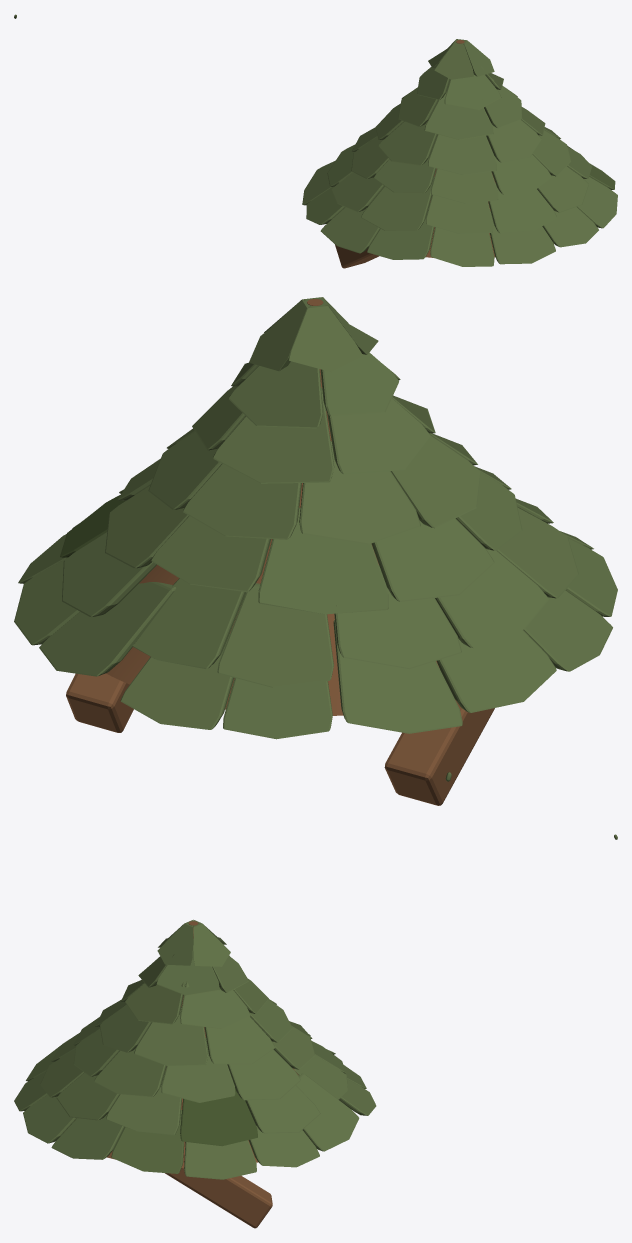
Rendered from small_roof.glb.
3 renders of one model, top to bottom at view 1: azimuth 30°, elevation 25°; view 2: azimuth 150°, elevation 25°; view 3: azimuth 270°, elevation 25°, orthographic. The views are drawn at different scales.
Visible parts, largest first — view 1: Tiles and Structure | Hand laid slate | 033, Tiles and Structure | Hand laid slate | 031, Tiles and Structure | Hand laid slate | 016, Tiles and Structure | Hand laid slate | 032, Tiles and Structure | Hand laid slate | 043, Tiles and Structure | Hand laid slate | 010, Tiles and Structure | Hand laid slate | 042, Tiles and Structure | Hand laid slate | 022, Tiles and Structure | Hand laid slate | 044, Tiles and Structure | Hand laid slate | 017, Tiles and Structure | Hand laid slate | 021, Tiles and Structure | Hand laid slate | 045 (+21 smaller); view 2: Tiles and Structure | Hand laid slate | 025, Tiles and Structure | Hand laid slate | 036, Tiles and Structure | Hand laid slate | 047, Tiles and Structure | Hand laid slate | 001, Tiles and Structure | Hand laid slate | 024, Tiles and Structure | Hand laid slate | 035, Tiles and Structure | Hand laid slate | 046, Tiles and Structure | Hand laid slate | 050, Tiles and Structure | Hand laid slate | 037, Tiles and Structure | Hand laid slate | 012, Tiles and Structure | Hand laid slate | 018, Tiles and Structure | Hand laid slate | 034 (+23 smaller); view 3: Tiles and Structure | Hand laid slate | 039, 01 Tower Structure | Canopy bracket | 002, Tiles and Structure | Hand laid slate | 020, Tiles and Structure | Hand laid slate | 053, Tiles and Structure | Hand laid slate | 040, Tiles and Structure | Hand laid slate | 050, Tiles and Structure | Hand laid slate | 028, Tiles and Structure | Hand laid slate | 027, Tiles and Structure | Hand laid slate | 019, Tiles and Structure | Hand laid slate | 052, Tiles and Structure | Hand laid slate | 029, Tiles and Structure | Hand laid slate | 038 (+19 smaller).
Part boxes in pixels (<box>): Tiles and Structure | Hand laid slate | 033: <box>361,177,434,230</box>; Tiles and Structure | Hand laid slate | 031: <box>488,183,556,233</box>; Tiles and Structure | Hand laid slate | 016: <box>428,134,496,175</box>; Tiles and Structure | Hand laid slate | 032: <box>426,195,493,233</box>; Tiles and Structure | Hand laid slate | 043: <box>430,227,494,266</box>; Tiles and Structure | Hand laid slate | 010: <box>424,92,493,139</box>; Tiles and Structure | Hand laid slate | 042: <box>490,211,555,264</box>; Tiles and Structure | Hand laid slate | 022: <box>431,168,498,203</box>; Tiles and Structure | Hand laid slate | 044: <box>367,207,434,259</box>; Tiles and Structure | Hand laid slate | 017: <box>378,121,437,165</box>; Tiles and Structure | Hand laid slate | 021: <box>491,149,551,194</box>; Tiles and Structure | Hand laid slate | 045: <box>320,207,379,253</box>; Tiles and Structure | Hand laid slate | 025: <box>258,507,388,614</box>; Tiles and Structure | Hand laid slate | 036: <box>217,583,333,687</box>; Tiles and Structure | Hand laid slate | 047: <box>333,620,462,733</box>; Tiles and Structure | Hand laid slate | 001: <box>299,441,420,544</box>; Tiles and Structure | Hand laid slate | 024: <box>371,518,494,601</box>; Tiles and Structure | Hand laid slate | 035: <box>334,566,461,669</box>; Tiles and Structure | Hand laid slate | 046: <box>436,630,556,712</box>; Tiles and Structure | Hand laid slate | 050: <box>39,582,175,676</box>; Tiles and Structure | Hand laid slate | 037: <box>132,578,245,668</box>; Tiles and Structure | Hand laid slate | 012: <box>213,387,334,483</box>; Tiles and Structure | Hand laid slate | 018: <box>183,463,301,539</box>; Tiles and Structure | Hand laid slate | 034: <box>435,549,548,648</box>; Tiles and Structure | Hand laid slate | 039: <box>180,1088,257,1146</box>; 01 Tower Structure | Canopy bracket | 002: <box>165,1168,272,1228</box>; Tiles and Structure | Hand laid slate | 020: <box>134,1007,208,1065</box>; Tiles and Structure | Hand laid slate | 053: <box>111,1110,184,1173</box>; Tiles and Structure | Hand laid slate | 040: <box>106,1075,181,1135</box>; Tiles and Structure | Hand laid slate | 050: <box>296,1073,359,1151</box>; Tiles and Structure | Hand laid slate | 028: <box>161,1038,235,1102</box>; Tiles and Structure | Hand laid slate | 027: <box>227,1049,300,1100</box>; Tiles and Structure | Hand laid slate | 019: <box>204,1016,274,1064</box>; Tiles and Structure | Hand laid slate | 052: <box>184,1140,256,1179</box>; Tiles and Structure | Hand laid slate | 029: <box>94,1048,166,1097</box>; Tiles and Structure | Hand laid slate | 038: <box>245,1085,320,1133</box>.
Size of the model in its own units: 3.12 by 1.7 by 3.67.
